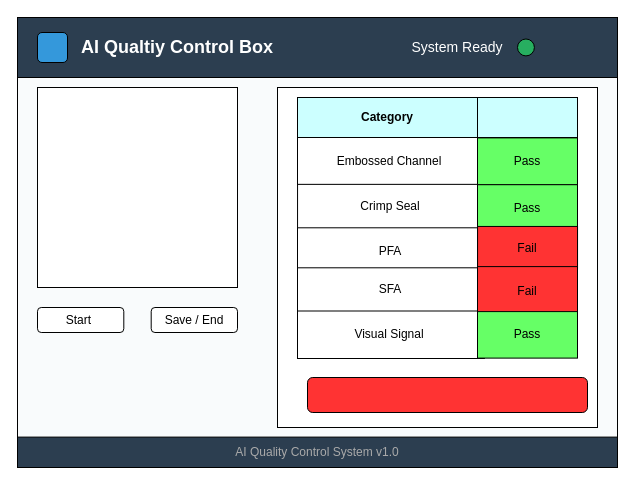
This 635x485 diagram has some shape labels left out. Each missing label, with the centre of its shape:
"Operator Information / Model Information" goes at point (137, 187).
"Overall Status - Fail" goes at point (447, 394).
"Status" goes at point (527, 117).
